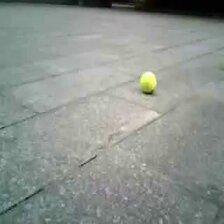tennis: (138, 71, 156, 92)
